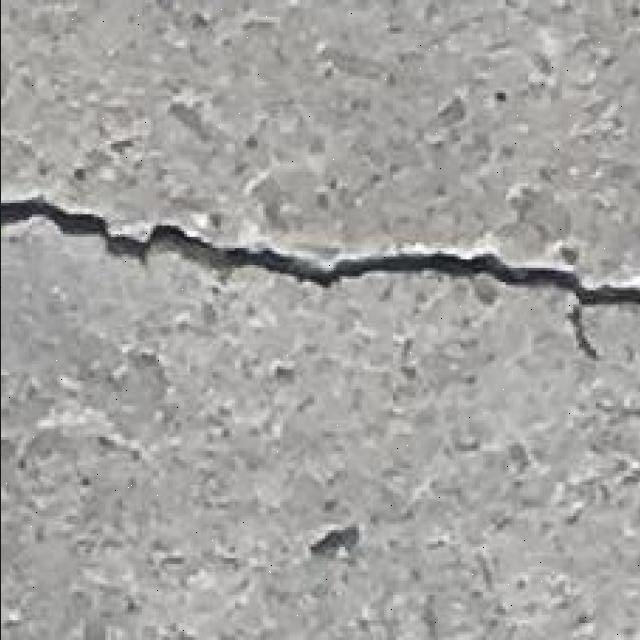crack: (4, 144, 640, 359), (280, 412, 639, 631)
